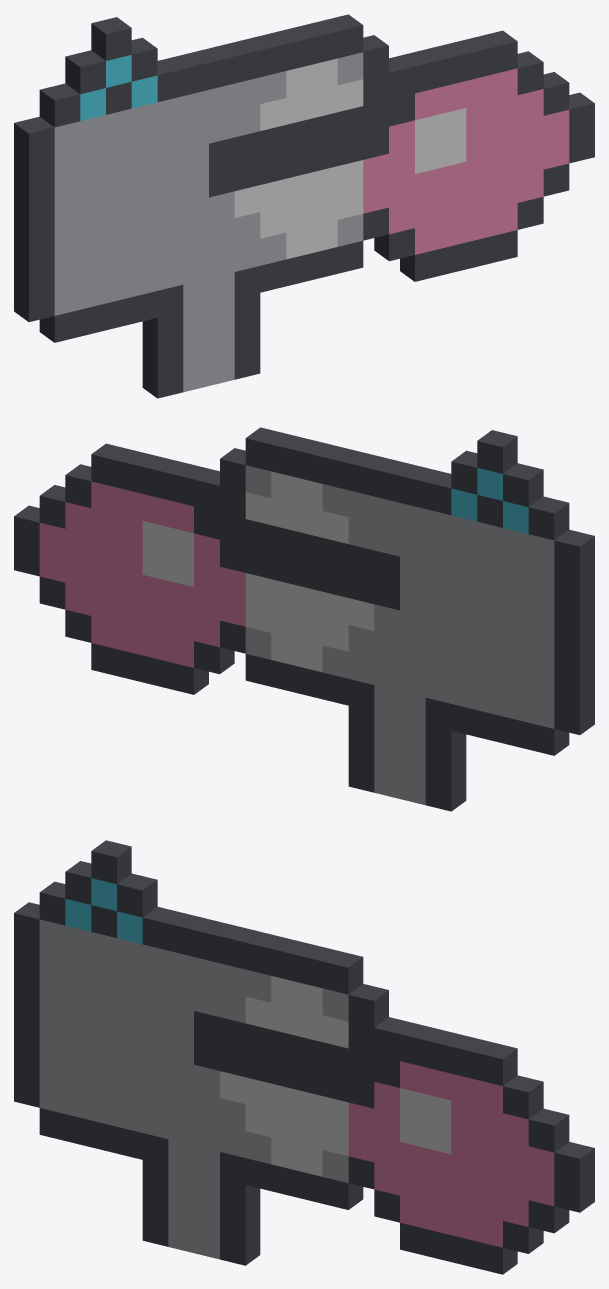
Rendered from tag_humour.glb.
3 renders of one model, top to bottom at view 1: azimuth 30°, elevation 25°; view 2: azimuth 150°, elevation 25°; view 3: azimuth 330°, elevation 25°, orthographic.
Visible parts, largest first — view 1: main; view 2: main; view 3: main.
Part boxes in pixels (bbox=[...]): main: bbox=[14, 14, 594, 398]; main: bbox=[14, 427, 594, 811]; main: bbox=[14, 840, 594, 1274].
Size of the model in its own units: 2.75 by 1.75 by 0.125.
